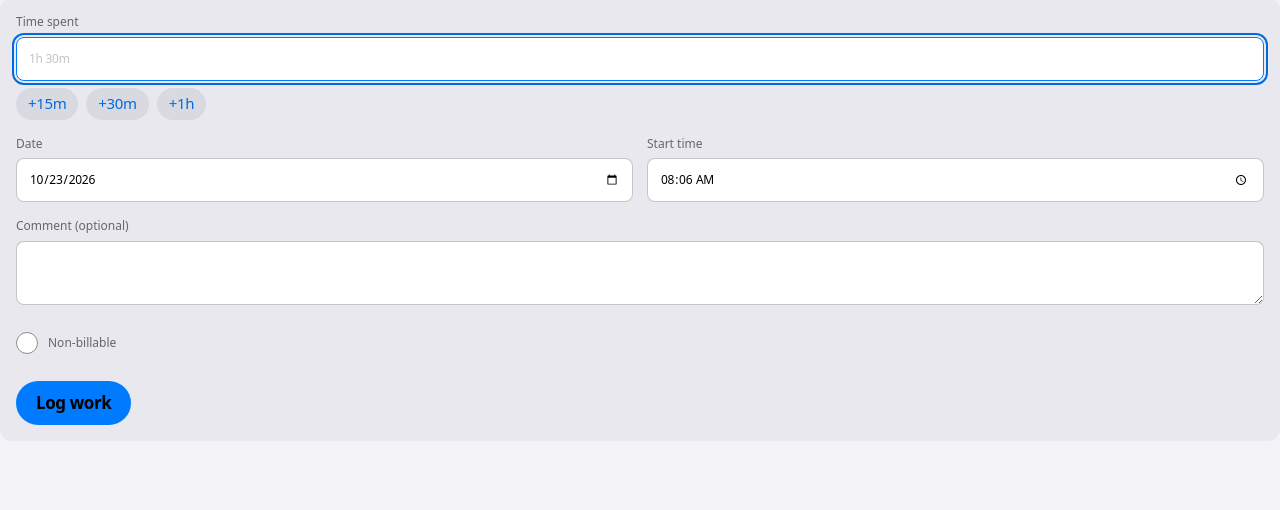
Test case: a duration that makes no sense › files it once it is fixed
Type "banana" into the field with placeholder "1h 30m" at x=640, y=58, box [16,36,1264,80]
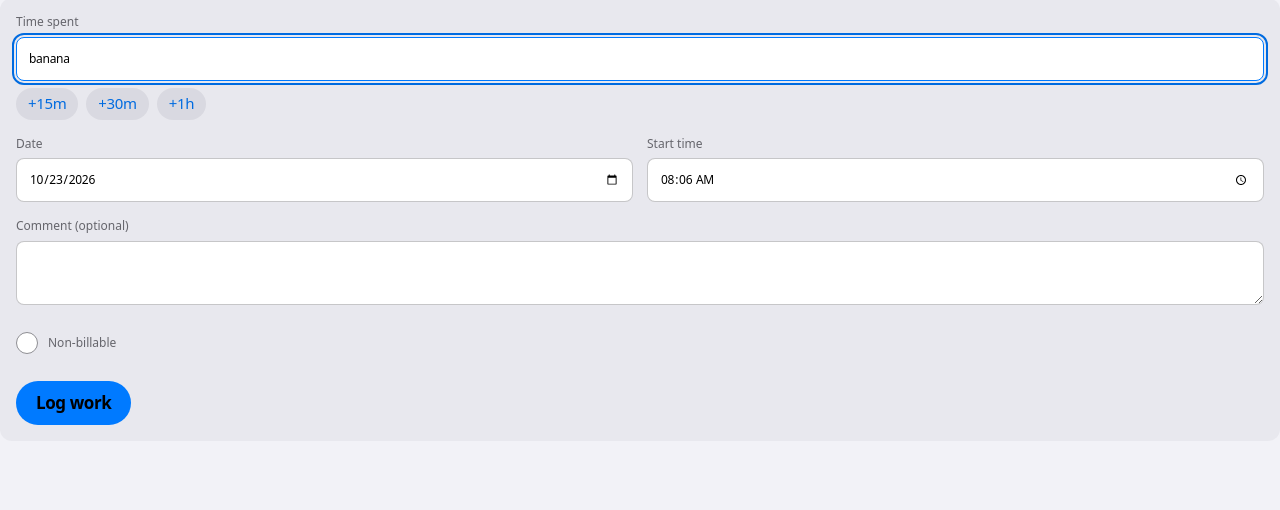
Click the button "Log work" at x=74, y=403, box [16,381,131,425]
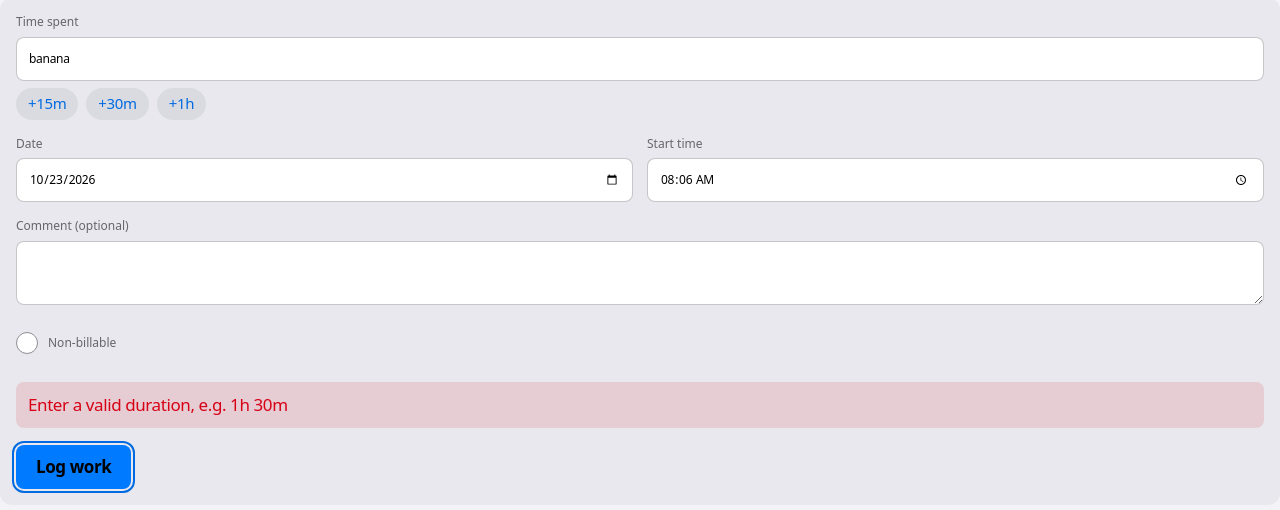
Replace the text in the field with placeholder "1h 30m" with "45m" at x=640, y=58, box [16,36,1264,80]
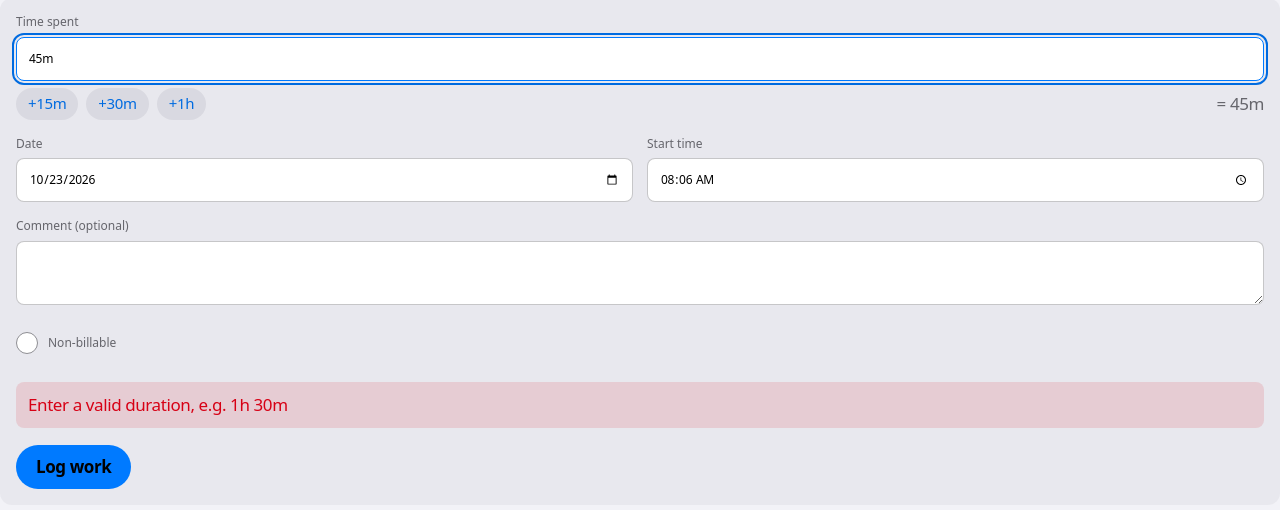
Click the button "Log work" at x=74, y=467, box [16,445,131,489]
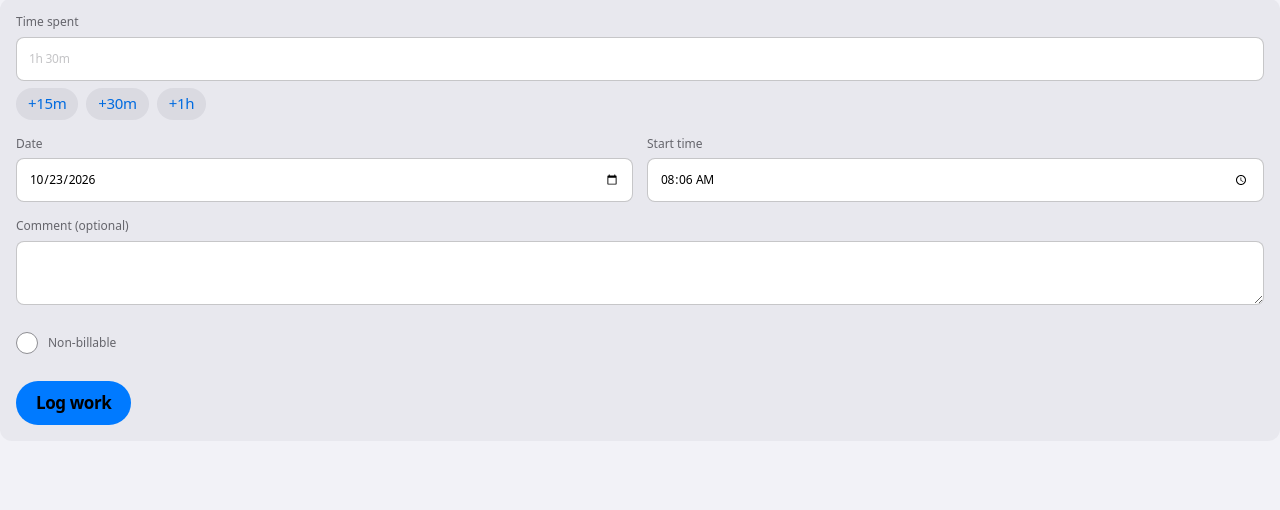
Expected: the text "Enter a valid duration, e.g. 1h 30m" is gone
